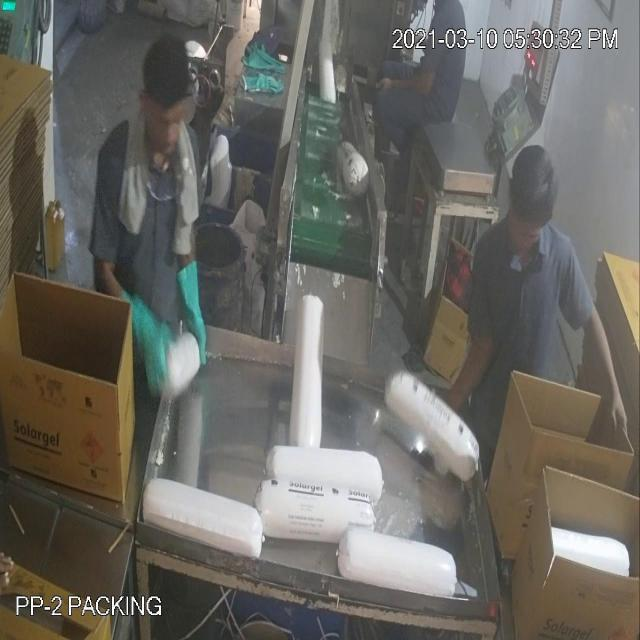Gloves: (48, 60, 601, 375)
